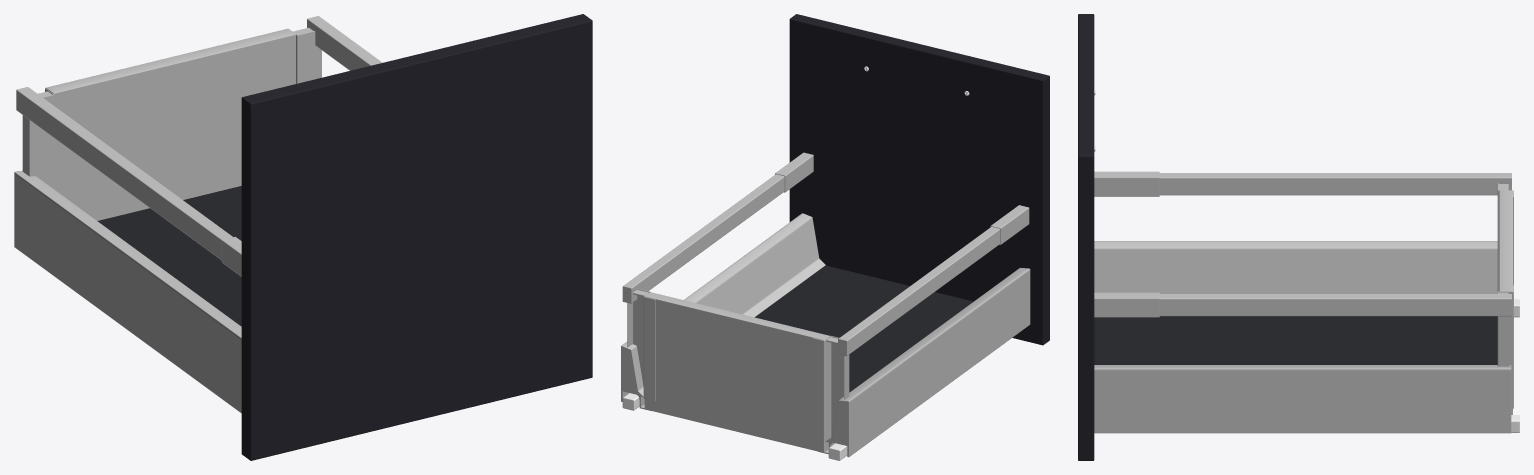
File: Kitchen10Drawer03.obj
3 views of the same model, side by side, from view 1: azimuth 30°, elevation 25°; view 2: azimuth 150°, elevation 25°; view 3: azimuth 270°, elevation 25° (orthographic). The views are drawn at different scales.
Parts seen in each view (by area): view 1: SM_Kitchen_10_Drawer_03_5; view 2: SM_Kitchen_10_Drawer_03_5; view 3: SM_Kitchen_10_Drawer_03_5.
Part boxes in pixels (x1,y1,x2,y2): SM_Kitchen_10_Drawer_03_5: (14,14,592,460); SM_Kitchen_10_Drawer_03_5: (621,14,1049,460); SM_Kitchen_10_Drawer_03_5: (1078,14,1519,460).
Size of the model in its own units: 39.7 by 39.6 by 51.99.
